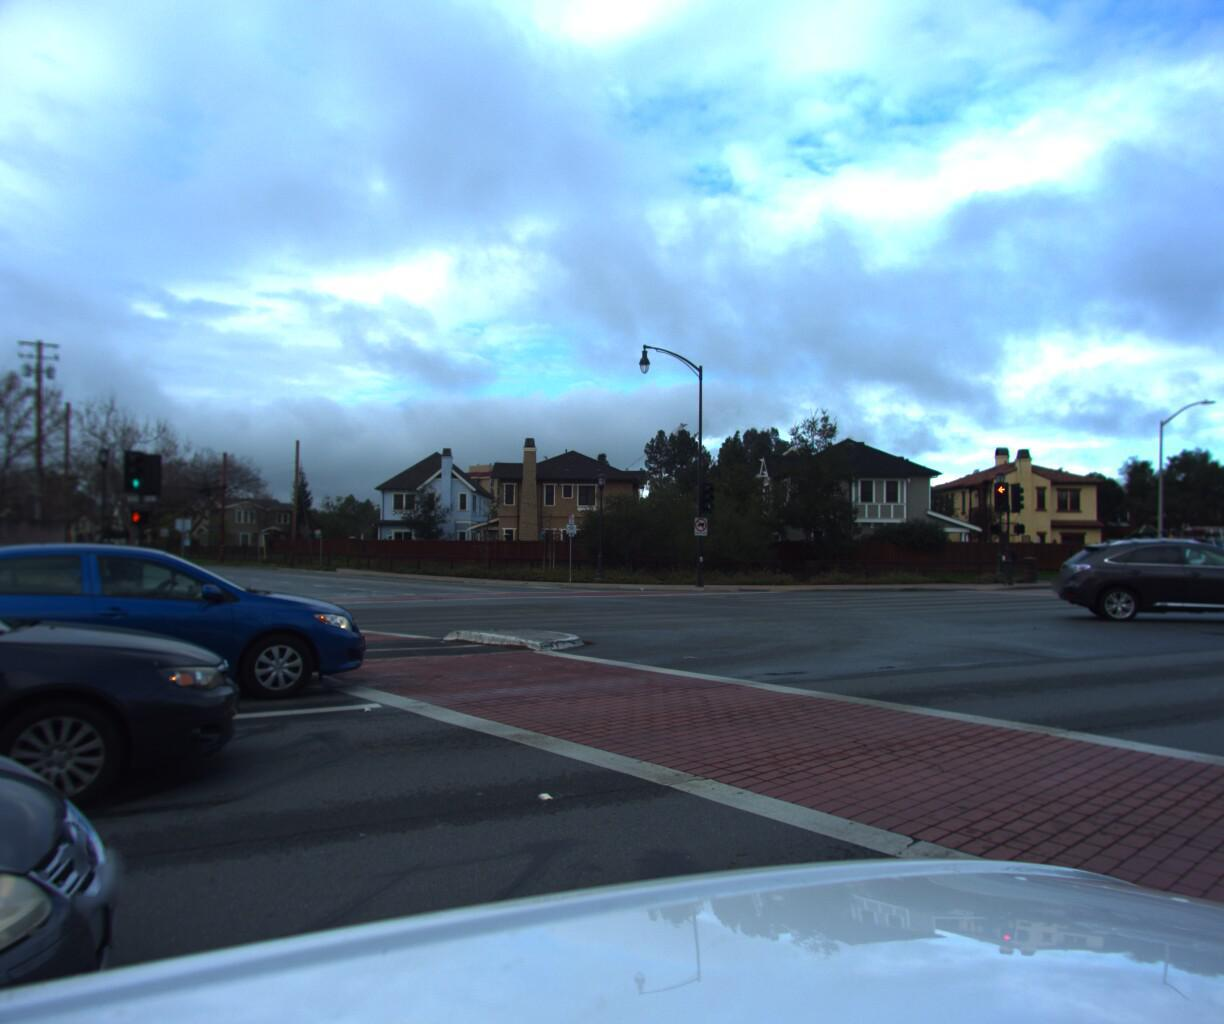car: (0, 545, 260, 937), (0, 534, 387, 743), (1044, 532, 1224, 628), (1099, 520, 1224, 591), (1166, 528, 1224, 582), (1195, 547, 1224, 591)
